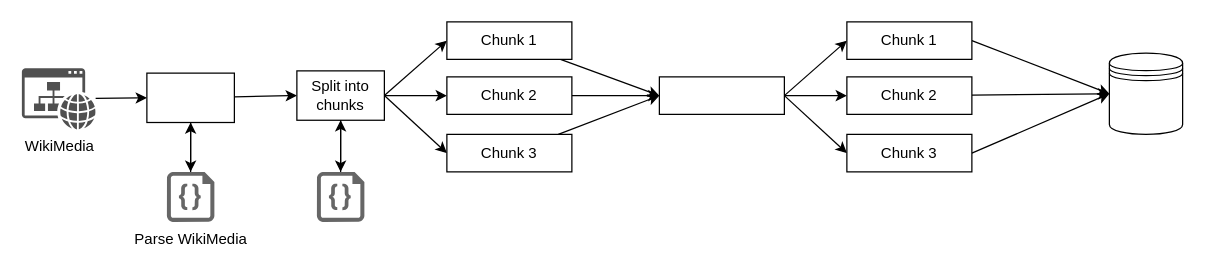
Some shapes in this 1205 by 270 pixel diagram are drawn without their labels. Each missing label, with the centre of its shape:
"Extract Content" belongs at point 190,97.
"Hugging Face Embedding" belongs at point 721,95.
"Ingest Markdown" belongs at point 340,196.
"Vector Database" belongs at point 1145,93.
